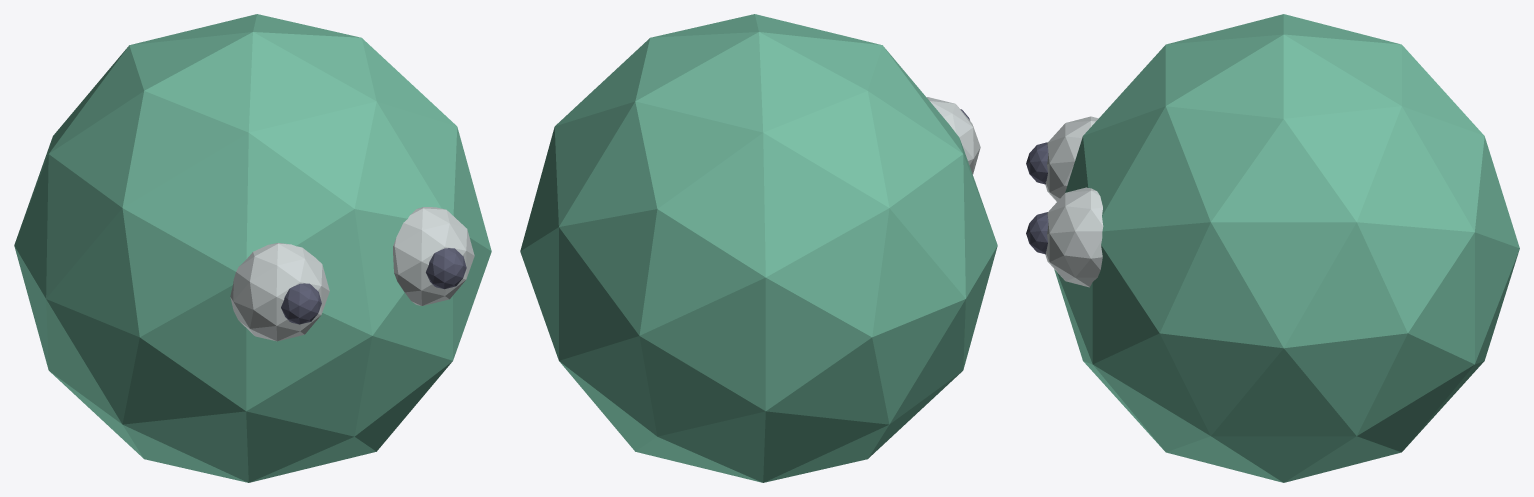
The model's file is slime_monstruo.glb.
The picture shows the model from 3 angles, left to right: view 1: azimuth 30°, elevation 25°; view 2: azimuth 150°, elevation 25°; view 3: azimuth 270°, elevation 25°; orthographic projection.
Visible parts, largest first — view 1: part_000, part_001, part_002, part_003, part_004; view 2: part_000, part_001; view 3: part_000, part_002, part_001, part_003, part_004.
Part boxes in pixels (x1,y1,x2,y2): part_000: (14,14,491,482); part_001: (230,243,329,341); part_002: (393,207,474,305); part_003: (281,283,321,324); part_004: (426,248,466,289); part_000: (520,14,997,482); part_001: (927,97,980,174); part_000: (1054,14,1519,482); part_002: (1045,187,1103,287); part_001: (1045,116,1098,201); part_003: (1026,142,1048,184); part_004: (1026,212,1048,254).
Size of the model in its own units: 1.2 by 1.2 by 1.25.
